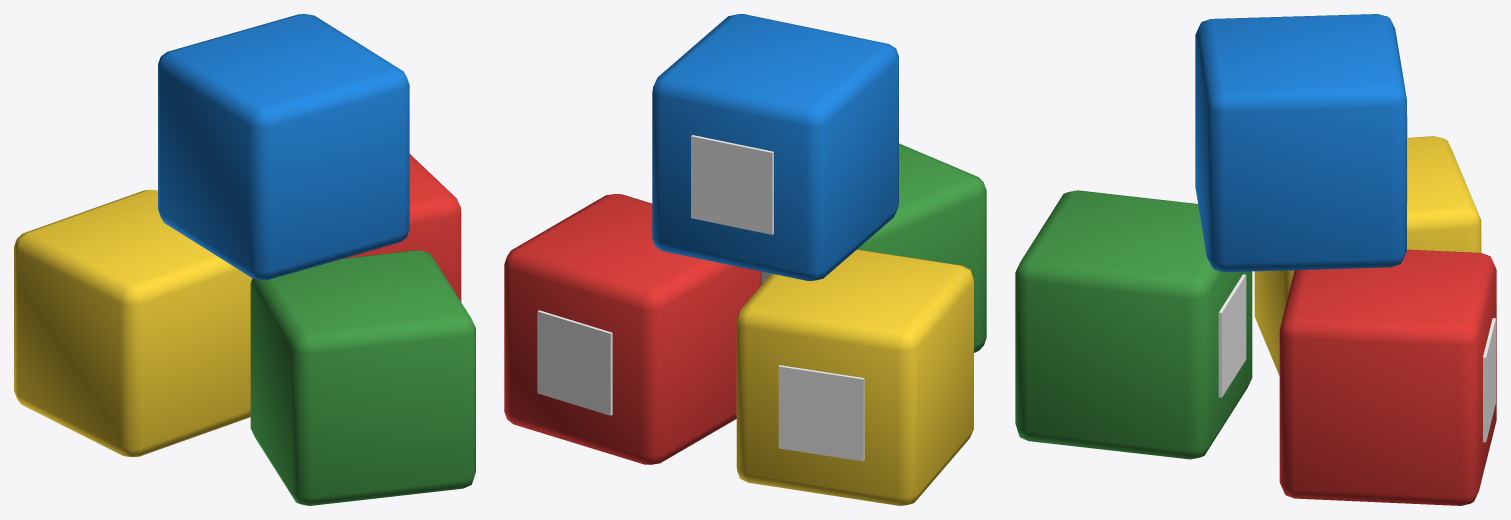
Rendered from toy_blocks.fbx.
3 views of the same model, side by side, from view 1: azimuth 30°, elevation 25°; view 2: azimuth 150°, elevation 25°; view 3: azimuth 270°, elevation 25° (orthographic). The views are drawn at different scales.
Visible parts, largest first — view 1: Wooden Blocks; view 2: Wooden Blocks; view 3: Wooden Blocks.
Part boxes in pixels (bbox=[...]): Wooden Blocks: bbox=[14, 14, 475, 505]; Wooden Blocks: bbox=[504, 14, 986, 505]; Wooden Blocks: bbox=[1015, 14, 1496, 505].
Size of the model in its own units: 0.7117 by 0.6 by 0.7195.
